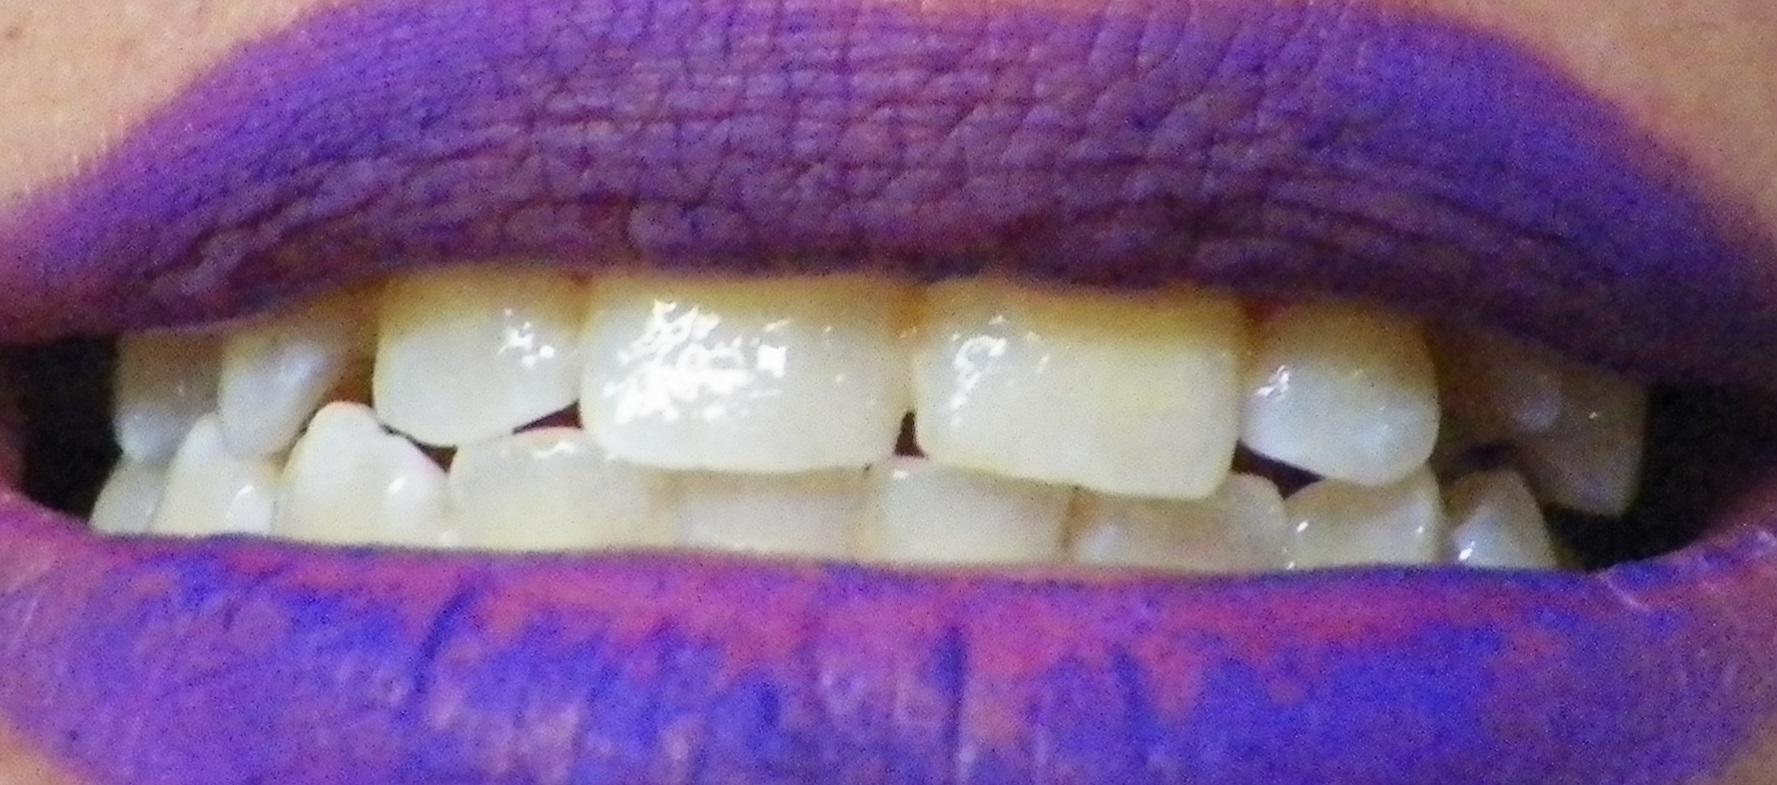boca: (101, 249, 1676, 645)
